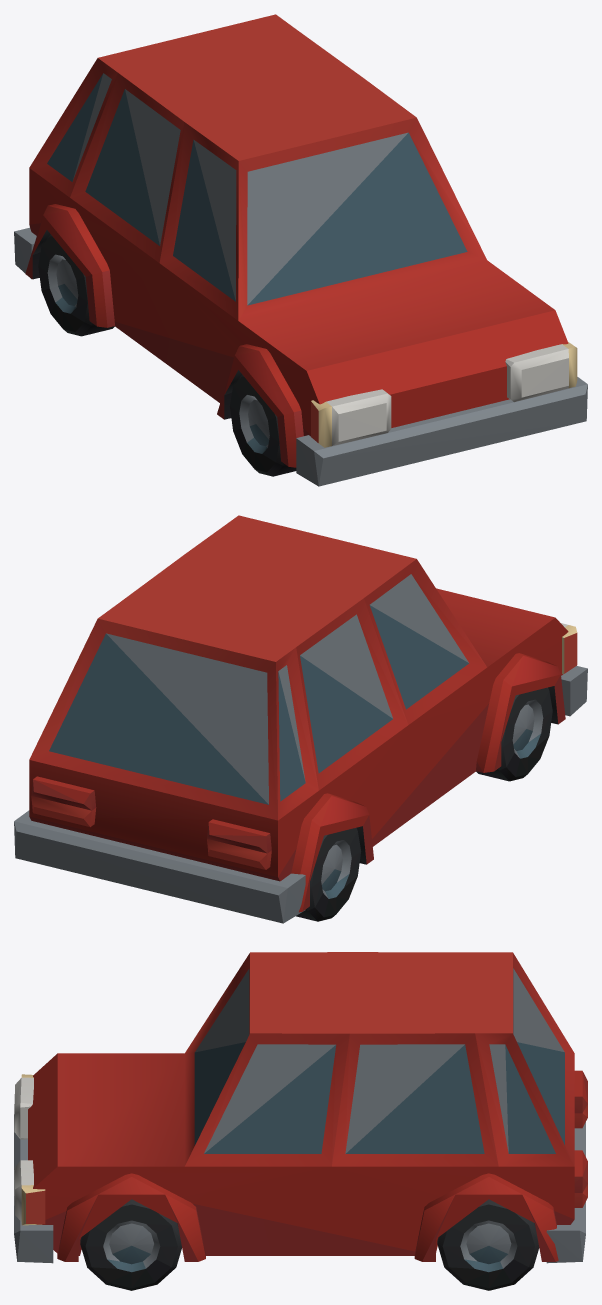
File: hatchback.low.31172016.glb
3 views of the same model, one above another, from view 1: azimuth 30°, elevation 25°; view 2: azimuth 150°, elevation 25°; view 3: azimuth 270°, elevation 25° (orthographic). The views are drawn at different scales.
Visible parts, largest first — view 1: hatchback; view 2: hatchback; view 3: hatchback.
Boxes of the visible parts, bbox=[...] form: hatchback: bbox=[14, 14, 587, 486]; hatchback: bbox=[14, 515, 587, 923]; hatchback: bbox=[14, 952, 587, 1290].
Bounding box in the file's own units: 2.18 × 1.92 × 4.2.
